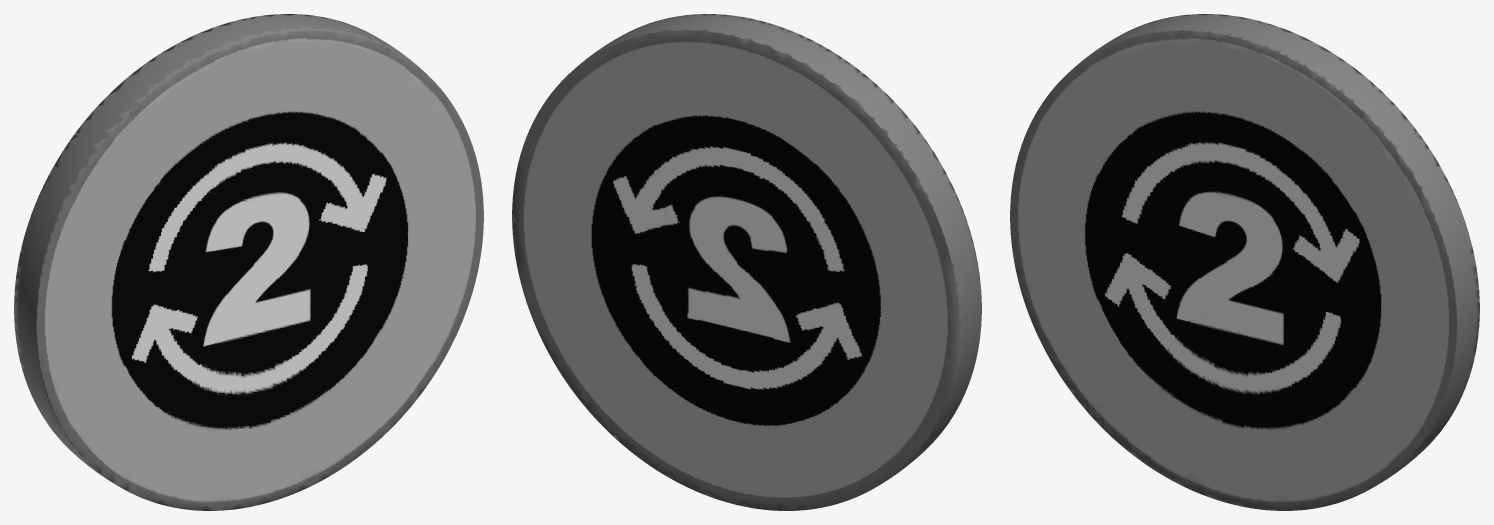
The model's file is 2_round.glb.
3 renders of one model, left to right at view 1: azimuth 30°, elevation 25°; view 2: azimuth 150°, elevation 25°; view 3: azimuth 330°, elevation 25°, orthographic.
Parts seen in each view (by area): view 1: node_id27; view 2: node_id27; view 3: node_id27.
Part boxes in pixels (x1=…): node_id27: x1=14, y1=14, x2=483, y2=510; node_id27: x1=512, y1=14, x2=981, y2=510; node_id27: x1=1010, y1=14, x2=1479, y2=510.
Bounding box in the file's own units: 0.512 × 0.512 × 0.0447.
Materials: 1 (1 with a texture image).
